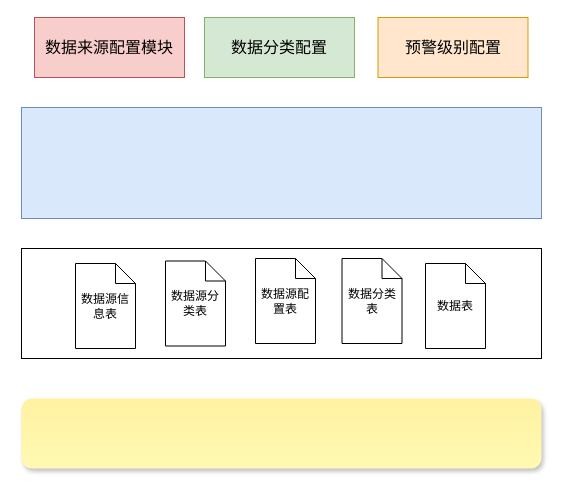
The diagram is 564 pixels wide and 493 high, and some of its shapes have lost their labels. The shapes that lost their labels are listed below. From the top down, each one's centre as x and y in pixels, then its label:
the point at 281,162: 信息收集模块
the point at 282,434: 数据库
